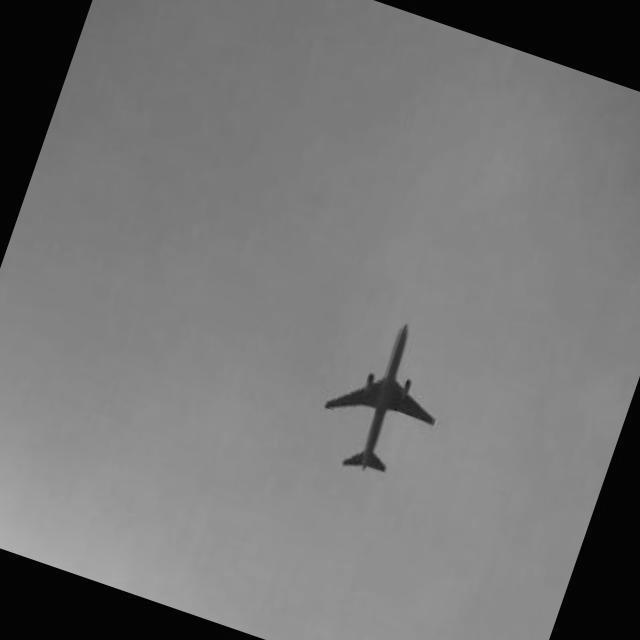aeroplane: (309, 307, 464, 487)
